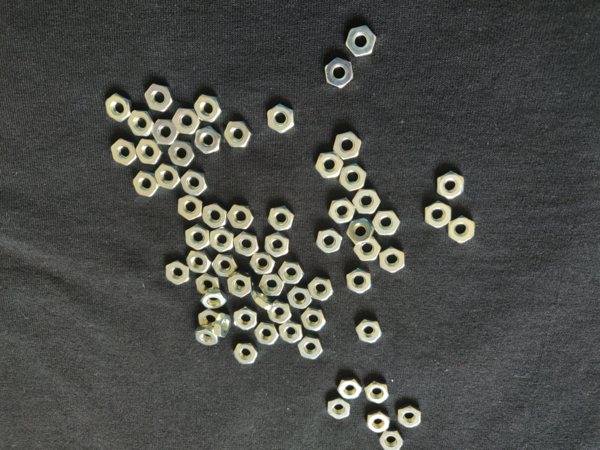nut: (346, 26, 377, 57), (325, 57, 354, 89), (145, 84, 173, 113), (195, 126, 223, 155), (339, 164, 368, 192), (268, 104, 295, 134), (223, 121, 253, 148), (315, 152, 345, 179), (334, 132, 362, 160), (437, 171, 465, 199), (448, 216, 476, 244), (168, 140, 197, 167), (127, 109, 155, 136), (194, 95, 222, 122), (347, 217, 375, 244), (105, 94, 131, 123), (329, 198, 356, 225), (268, 205, 295, 232), (172, 108, 200, 134), (155, 162, 181, 190), (426, 201, 452, 229), (227, 204, 255, 230), (135, 139, 164, 164), (352, 189, 381, 214), (372, 211, 401, 236), (152, 119, 179, 145), (111, 139, 137, 166), (181, 170, 208, 196), (346, 268, 372, 295), (354, 237, 382, 262), (202, 203, 228, 229), (227, 272, 253, 298), (134, 171, 159, 198), (380, 247, 405, 274), (355, 320, 383, 344), (317, 229, 343, 254), (178, 195, 203, 221), (265, 233, 291, 258), (209, 227, 234, 253), (234, 231, 259, 257), (186, 224, 210, 251), (308, 277, 334, 301), (254, 322, 280, 346), (212, 254, 239, 277), (301, 308, 326, 332), (279, 320, 304, 344), (365, 381, 390, 405), (279, 262, 305, 285), (249, 253, 276, 275), (268, 300, 292, 324), (398, 405, 422, 429), (166, 260, 189, 285), (287, 286, 312, 309), (298, 336, 323, 359), (186, 252, 212, 274), (259, 274, 285, 296), (196, 273, 221, 295), (200, 289, 228, 308), (234, 307, 257, 330), (252, 286, 274, 310), (196, 325, 221, 346), (337, 379, 362, 400), (367, 411, 390, 433), (234, 344, 258, 365), (328, 398, 350, 420), (379, 431, 403, 450), (214, 314, 231, 338), (199, 309, 219, 327)
